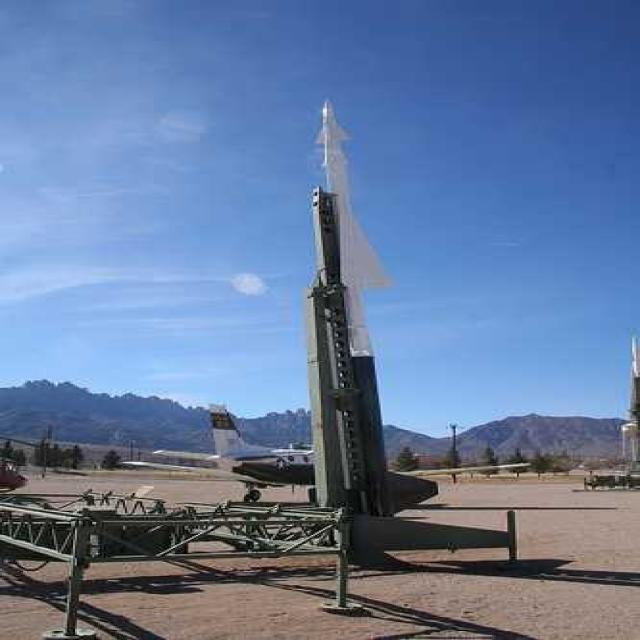missile: (302, 97, 394, 355)
